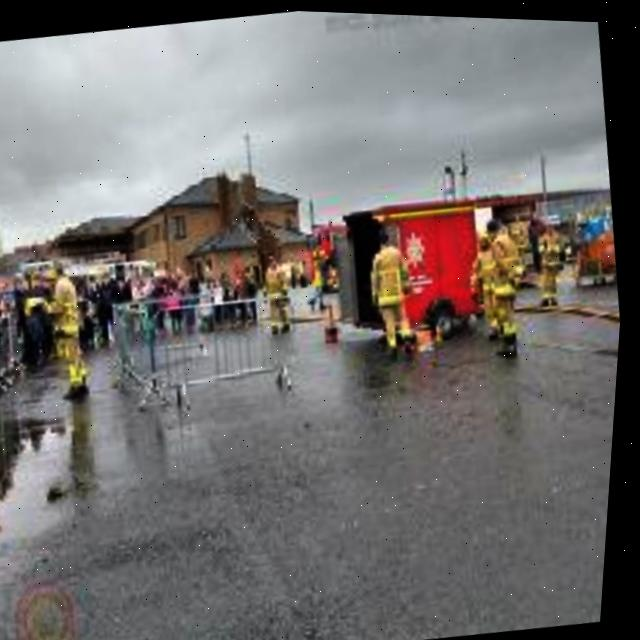emergency: (352, 184, 554, 345)
